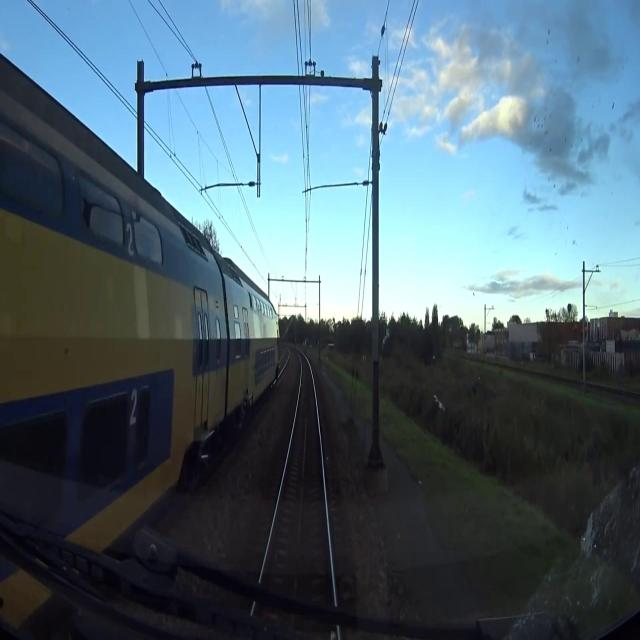rail-track: (267, 355, 330, 583), (279, 350, 287, 370)
